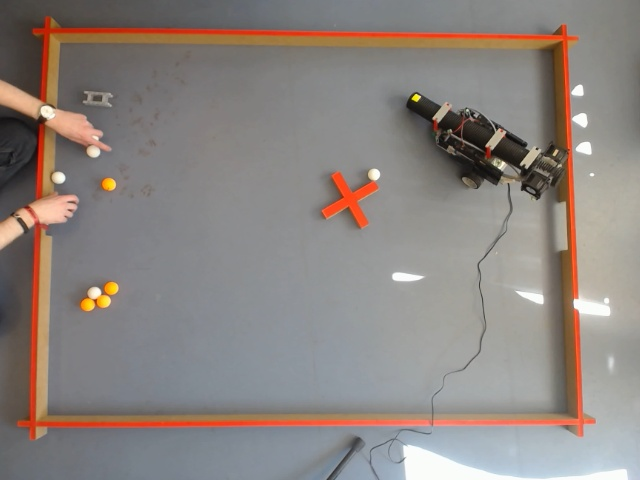orange: (95, 291, 112, 310), (79, 296, 96, 313), (100, 176, 118, 192), (103, 280, 120, 296)
robot: (393, 102, 571, 204)
white: (592, 469, 631, 480), (604, 468, 629, 480), (85, 143, 101, 160), (366, 167, 382, 183), (51, 171, 67, 185), (87, 285, 101, 300), (572, 83, 584, 97)
